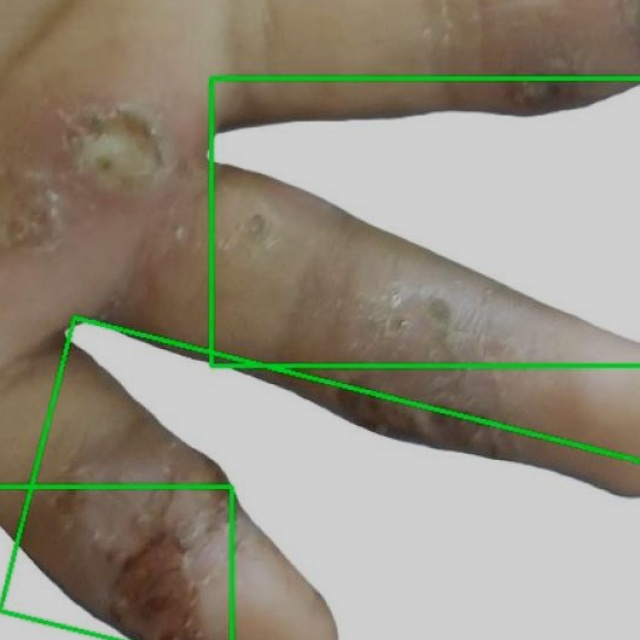Eczema: (0, 318, 639, 639), (211, 78, 639, 365), (0, 488, 230, 639)
